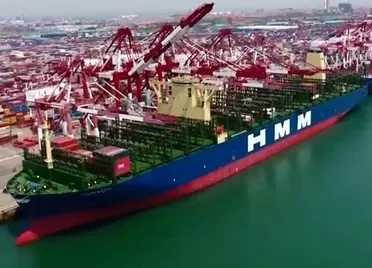Cargoship: (1, 67, 369, 245)
